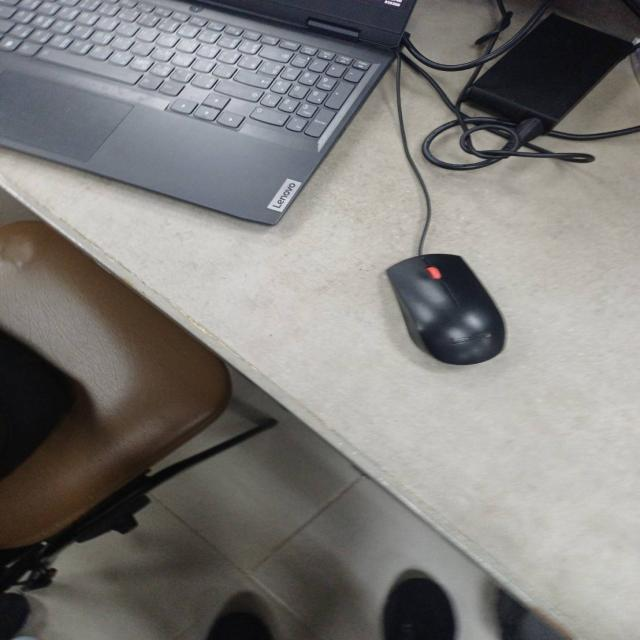mouse: (380, 248, 512, 371)
